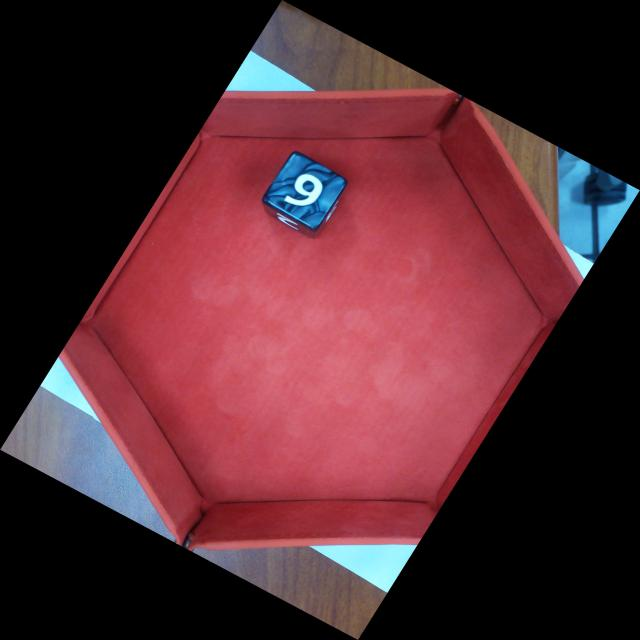dice: (259, 149, 351, 232)
